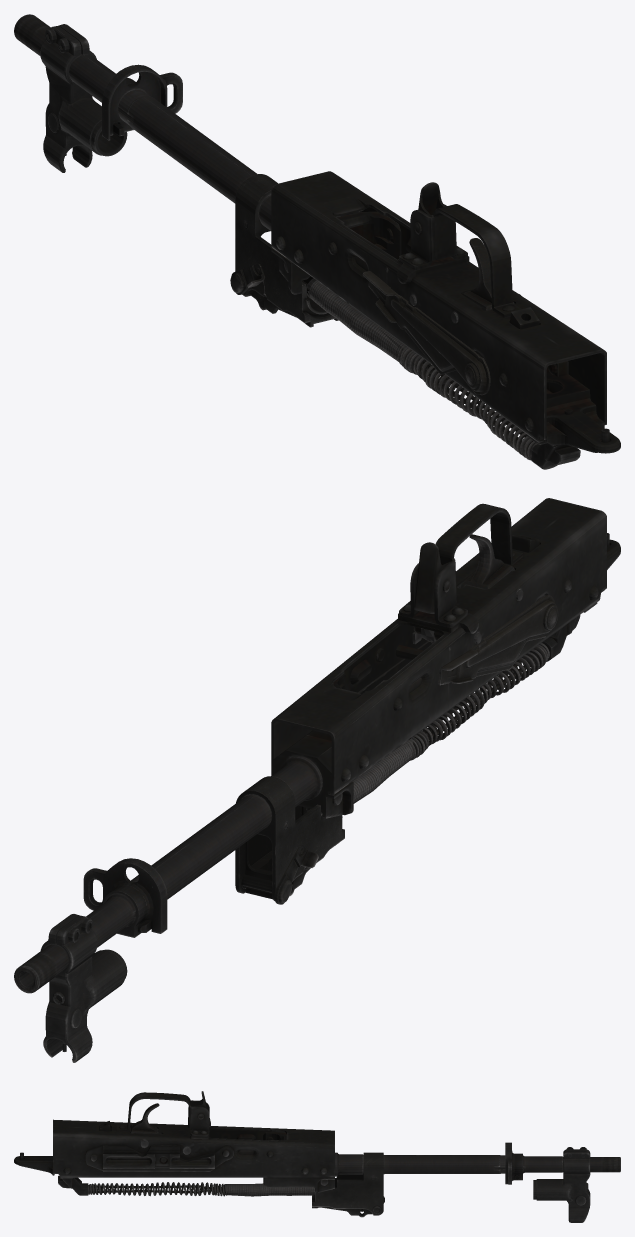
The picture shows the model from 3 angles, top to bottom: view 1: azimuth 30°, elevation 25°; view 2: azimuth 150°, elevation 25°; view 3: azimuth 270°, elevation 25°; orthographic projection. The views are drawn at different scales.
Visible parts, largest first — view 1: TW_628a60ae6b1d481ff772e9c8_PZ_Import; view 2: TW_628a60ae6b1d481ff772e9c8_PZ_Import; view 3: TW_628a60ae6b1d481ff772e9c8_PZ_Import.
Part boxes in pixels (bbox=[...]): TW_628a60ae6b1d481ff772e9c8_PZ_Import: bbox=[14, 14, 620, 469]; TW_628a60ae6b1d481ff772e9c8_PZ_Import: bbox=[14, 498, 620, 1062]; TW_628a60ae6b1d481ff772e9c8_PZ_Import: bbox=[14, 1091, 620, 1222].
Bounding box in the file's own units: 0.0296 × 0.3209 × 0.0749.
Materials: 1 (1 with a texture image).
